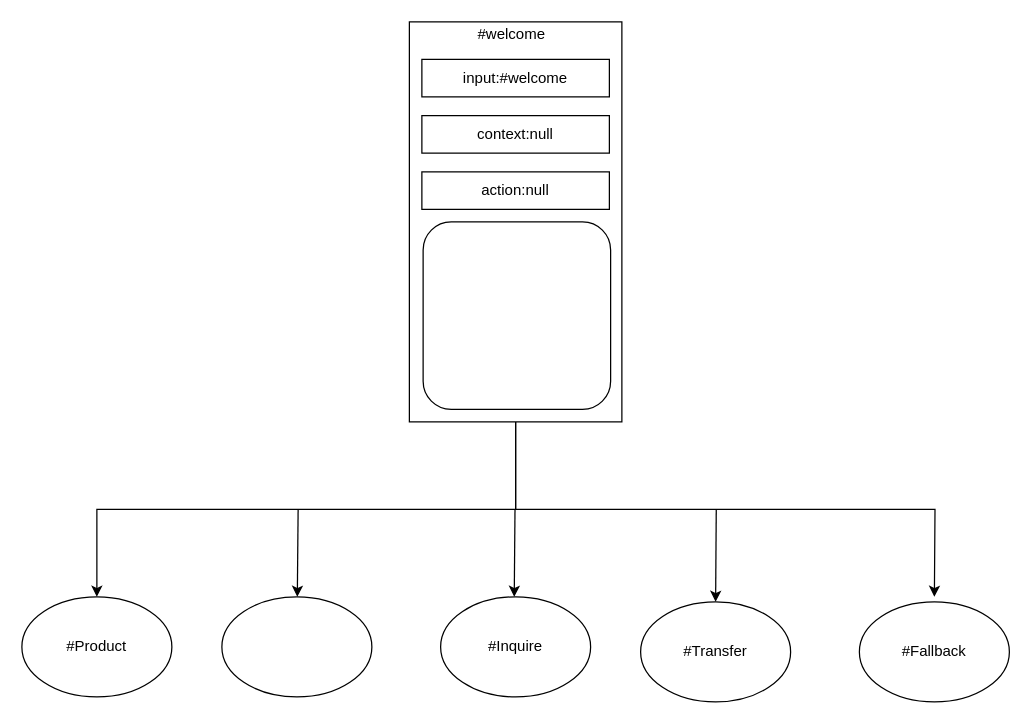
This 1031x724 diagram has some shape labels left out. The shapes that lost their labels are listed below. From the top down, each one's box as (x1, y1, x2, y2) in pixels, then its label:
(422, 221, 611, 409): 歡迎來到 家教課程網 我們提供以下服務: 1. 課程查詢 2.訂單成立/取消 3.查詢交易明細(使用者) 營運狀況(管理者) 4.支付轉介
(221, 596, 372, 697): #Order
